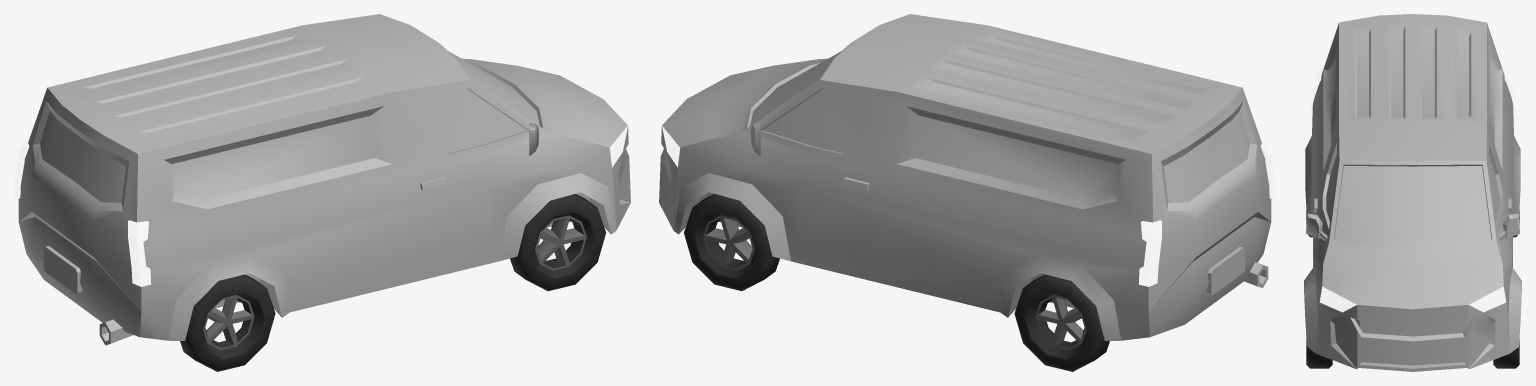
Rendered from van.glb.
3 renders of one model, left to right at view 1: azimuth 30°, elevation 25°; view 2: azimuth 150°, elevation 25°; view 3: azimuth 270°, elevation 25°, orthographic. The views are drawn at different scales.
Visible parts, largest first — view 1: van; view 2: van; view 3: van.
Part boxes in pixels (x1=…): van: x1=14, y1=14, x2=630, y2=371; van: x1=659, y1=14, x2=1275, y2=371; van: x1=1304, y1=14, x2=1521, y2=371.
Size of the model in its own units: 4.98 by 1.96 by 2.12.
Materials: 6 (2 with a texture image).
